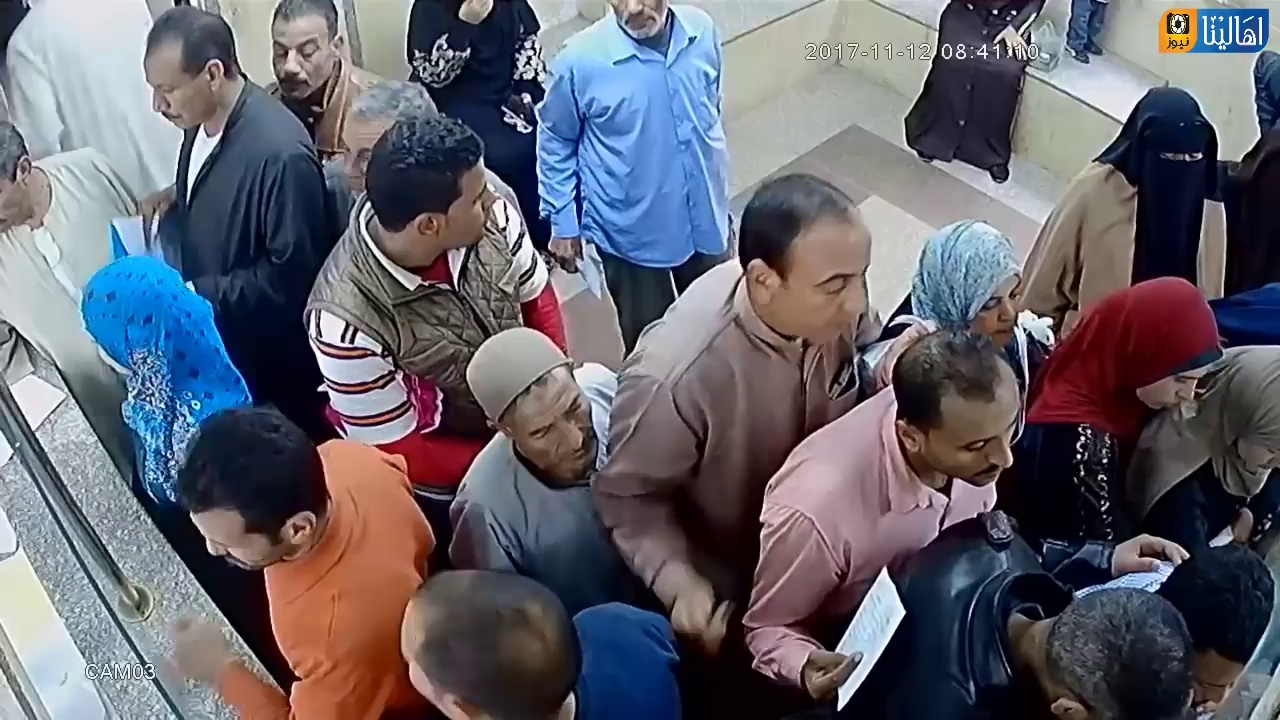face: (771, 226, 869, 343), (936, 387, 1024, 492), (421, 155, 503, 249), (505, 398, 599, 473), (138, 46, 189, 132), (268, 23, 321, 104), (968, 272, 1027, 341), (1148, 350, 1207, 419), (1152, 134, 1205, 192)
